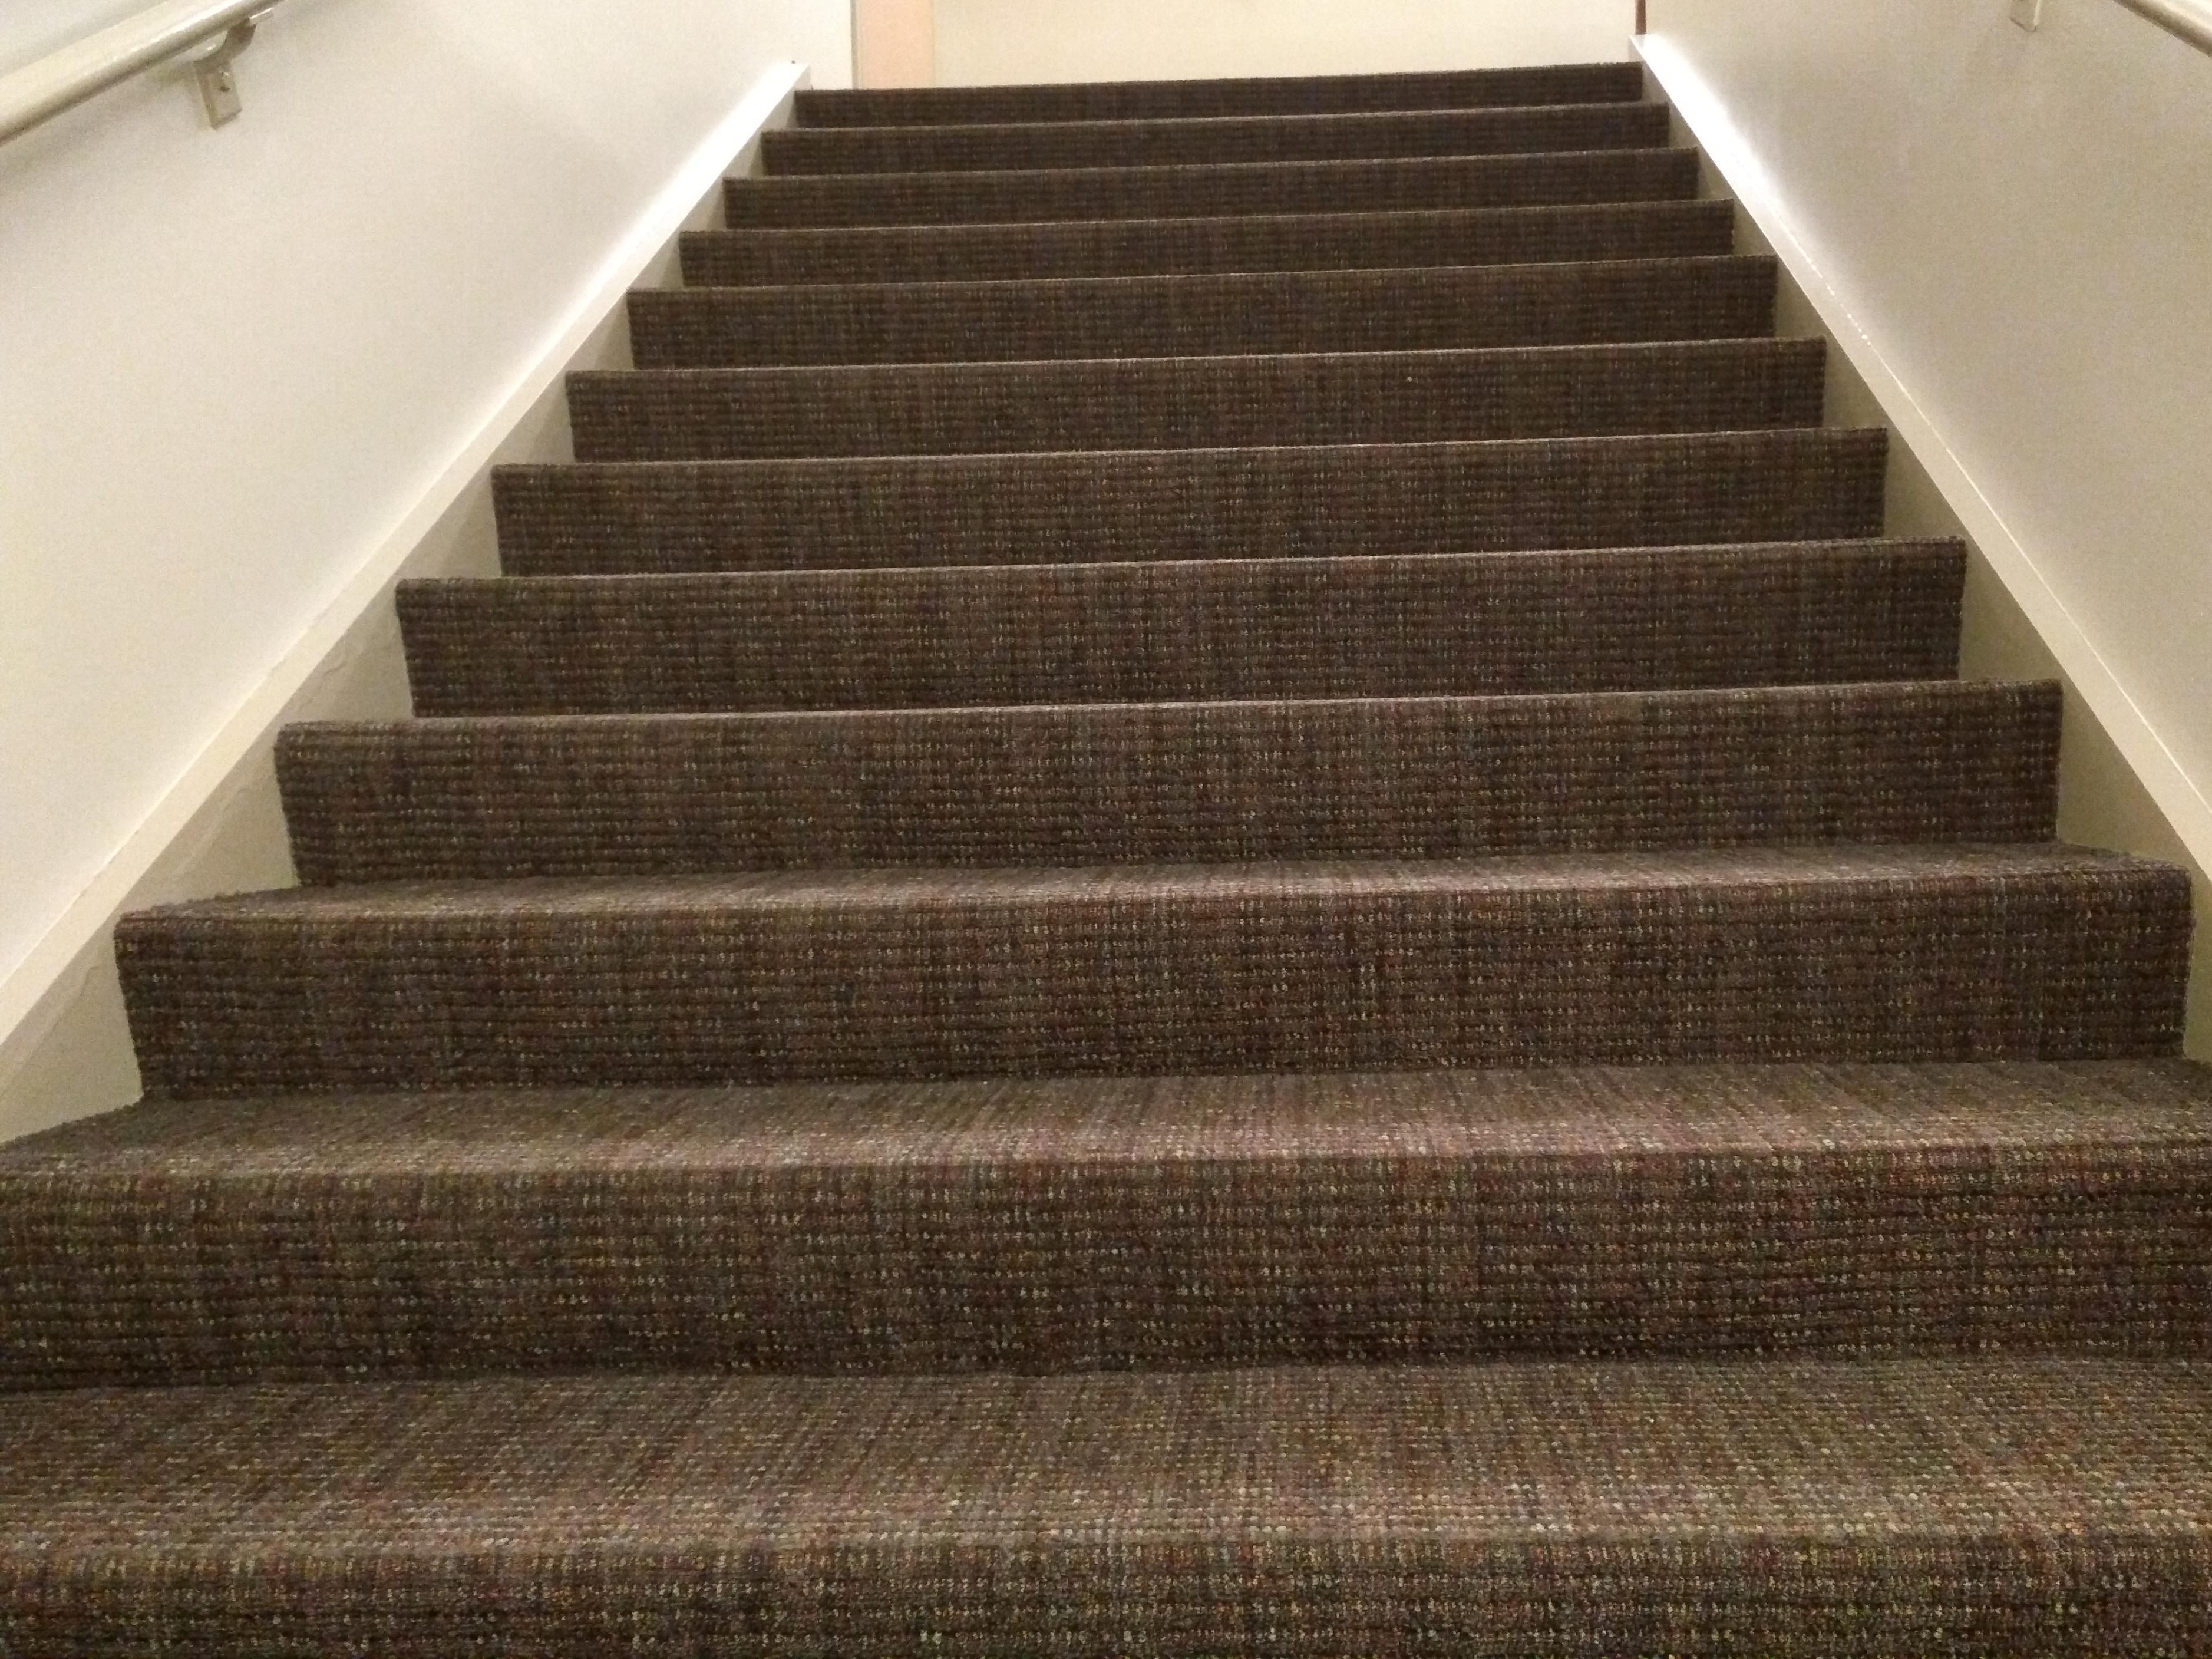stairs_up: (17, 87, 2212, 1656)
